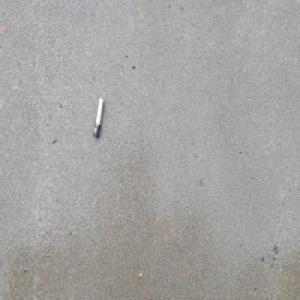Battery: (92, 96, 104, 139)
